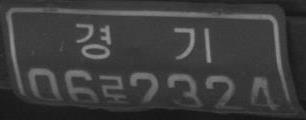0: (25, 65, 65, 103)
2: (204, 73, 245, 111), (129, 70, 164, 107)
3: (166, 71, 204, 108)
4: (248, 74, 281, 112)
6: (65, 67, 100, 105)
경기_D: (73, 21, 214, 65)
로: (101, 73, 129, 106)
